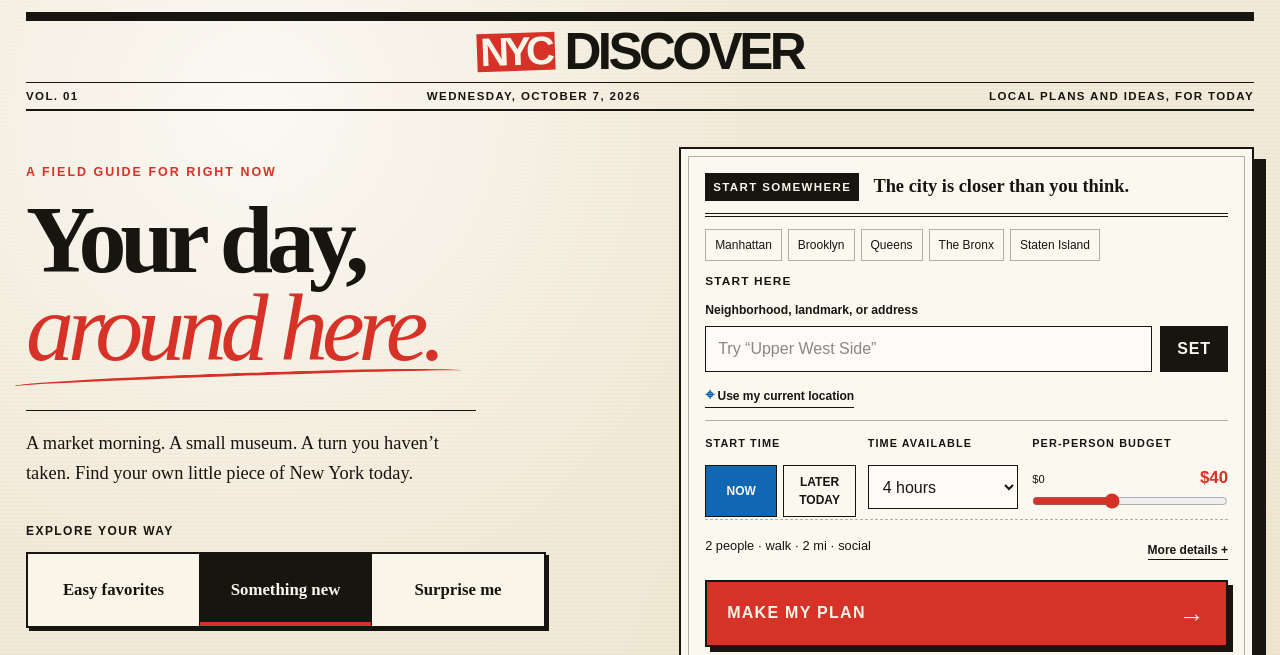
Test: DiscoveryApp › shows form validation without making a request
The image size is (1280, 655).
Click the button "Make my plan →": (796, 613) x1=705 y1=580 x2=1228 y2=647
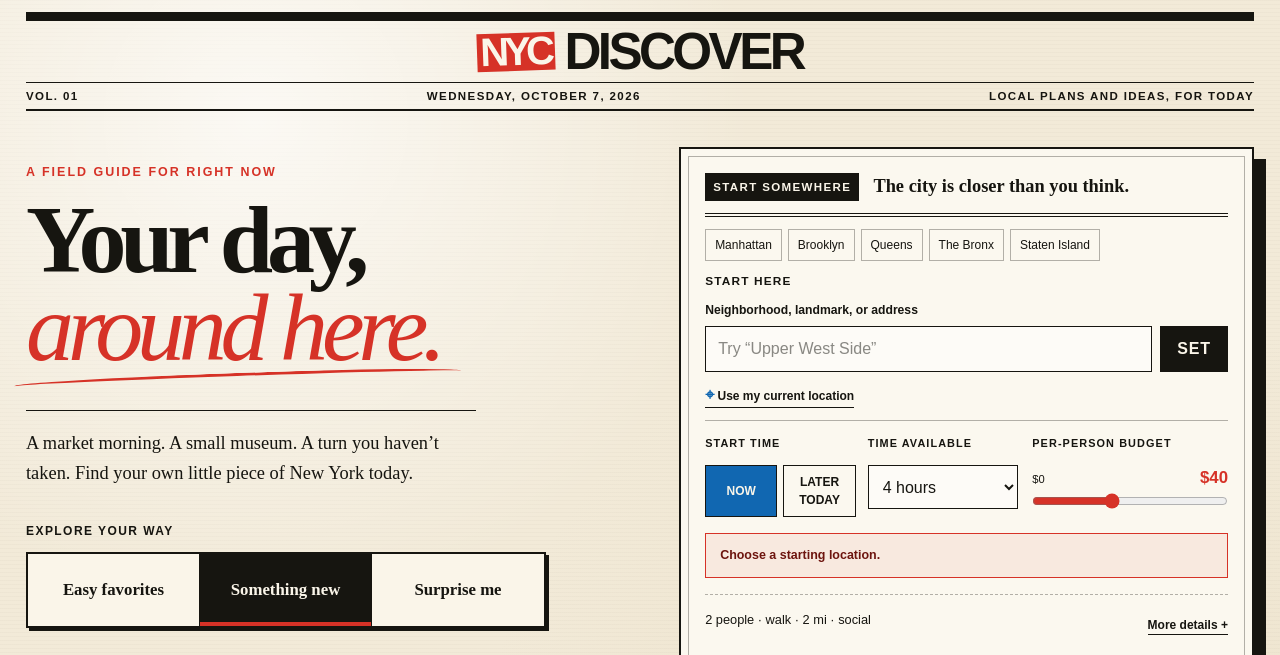
Expected: the message reads "Choose a starting location.", x1=720 y1=548 x2=880 y2=562
